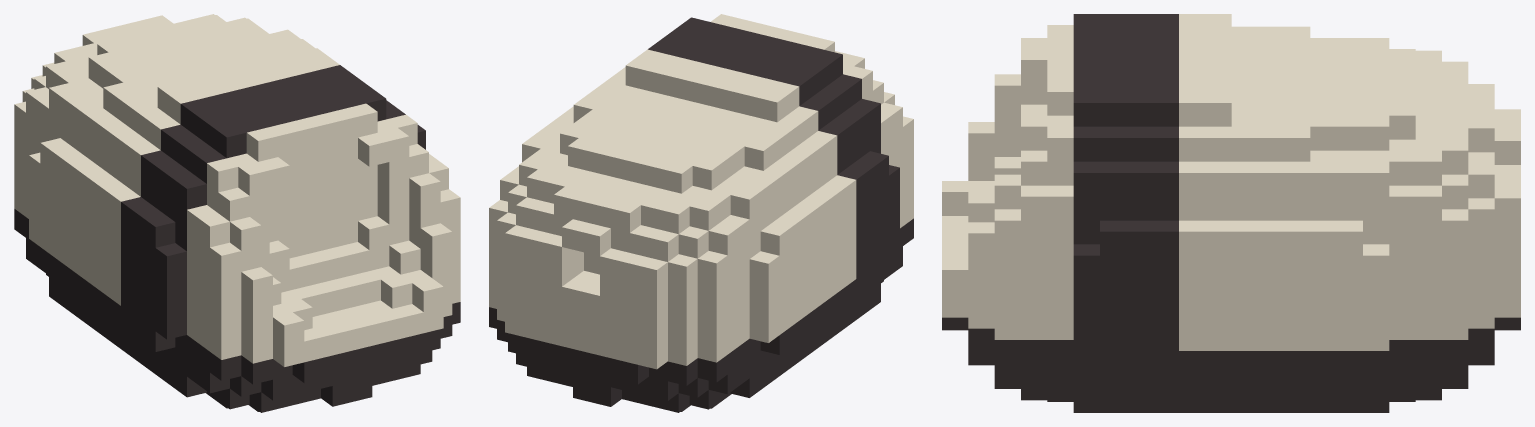
File: panda__body.obj
3 renders of one model, left to right at view 1: azimuth 30°, elevation 25°; view 2: azimuth 150°, elevation 25°; view 3: azimuth 270°, elevation 25°, orthographic. The views are drawn at different scales.
Parts seen in each view (by area): view 1: panda__body; view 2: panda__body; view 3: panda__body.
Boxes of the visible parts, x1,y1,x2,y2 form: panda__body: (14, 14, 460, 412); panda__body: (489, 14, 913, 412); panda__body: (942, 14, 1520, 412).
Bounding box in the file's own units: 1.4 × 1.3 × 2.2.
1 material, 1 textured.
